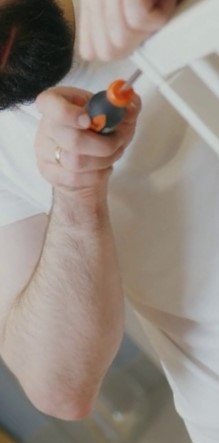screwdriver: (75, 67, 145, 145)
